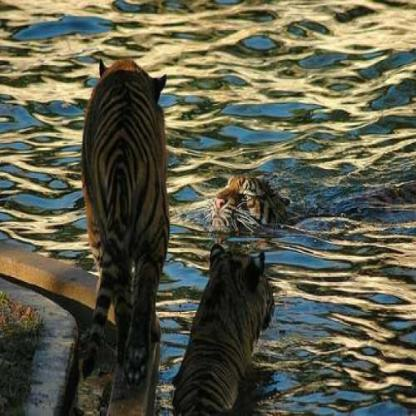Tiger: (56, 10, 171, 294), (181, 236, 306, 412), (206, 162, 291, 226)
